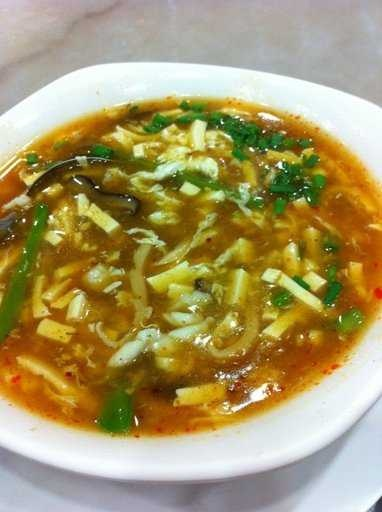soup: (1, 113, 365, 421)
